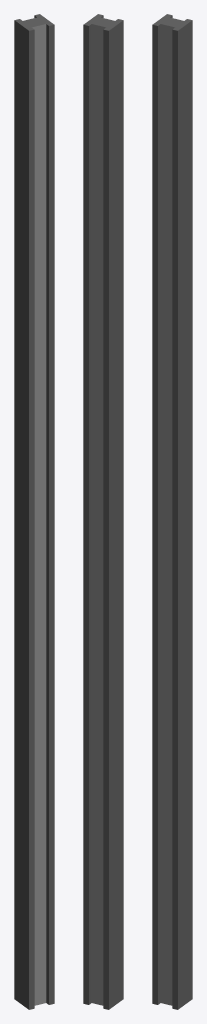
The model's file is Building_Deco_01_C.FBX.
3 renders of one model, left to right at view 1: azimuth 30°, elevation 25°; view 2: azimuth 150°, elevation 25°; view 3: azimuth 330°, elevation 25°, orthographic.
Parts seen in each view (by area): view 1: Building_Deco_01_C_LOD0; view 2: Building_Deco_01_C_LOD0; view 3: Building_Deco_01_C_LOD0.
Boxes of the visible parts, box(x1,y1,x2,y2) form: Building_Deco_01_C_LOD0: box(14, 14, 54, 1009); Building_Deco_01_C_LOD0: box(83, 14, 123, 1009); Building_Deco_01_C_LOD0: box(152, 14, 192, 1009).
Size of what is drawn, in the model's own units: 36.25 by 1337 by 36.25.
